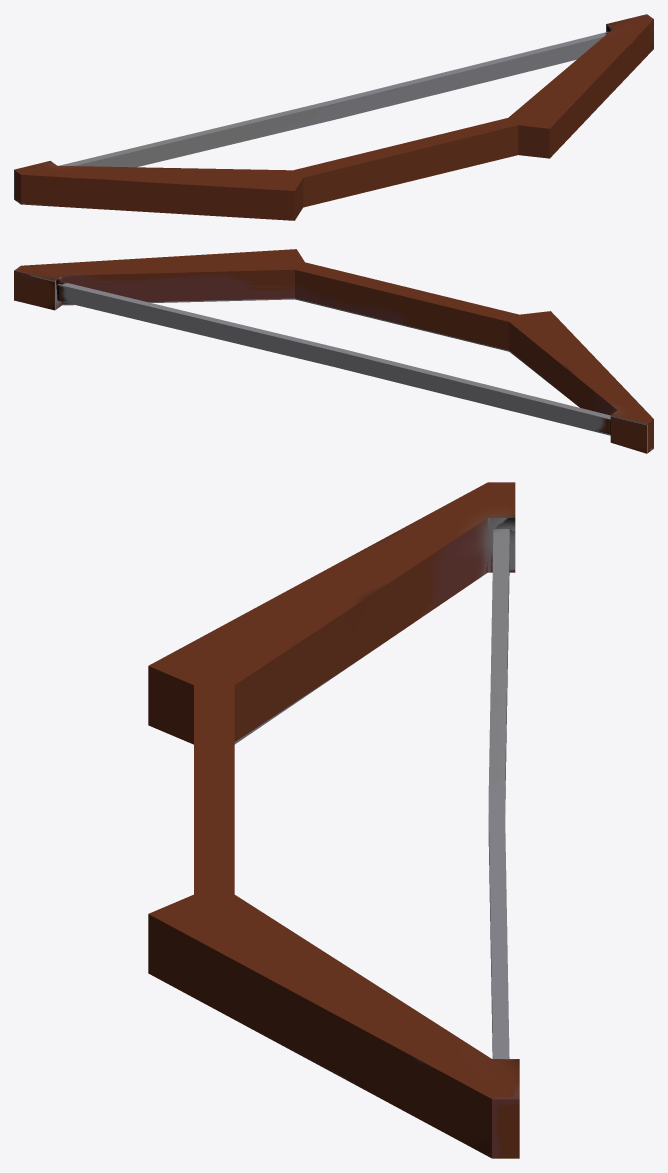
File: Bow.dae
3 views of the same model, one above another, from view 1: azimuth 30°, elevation 25°; view 2: azimuth 150°, elevation 25°; view 3: azimuth 270°, elevation 25° (orthographic). The views are drawn at different scales.
Parts seen in each view (by area): view 1: Cube; view 2: Cube; view 3: Cube.
Part boxes in pixels (x1,y1,x2,y2): Cube: (14, 14, 653, 220); Cube: (14, 249, 653, 453); Cube: (148, 482, 519, 1158).
Size of the model in its own units: 1.59 by 0.404 by 0.0714.
1 material, 1 textured.
